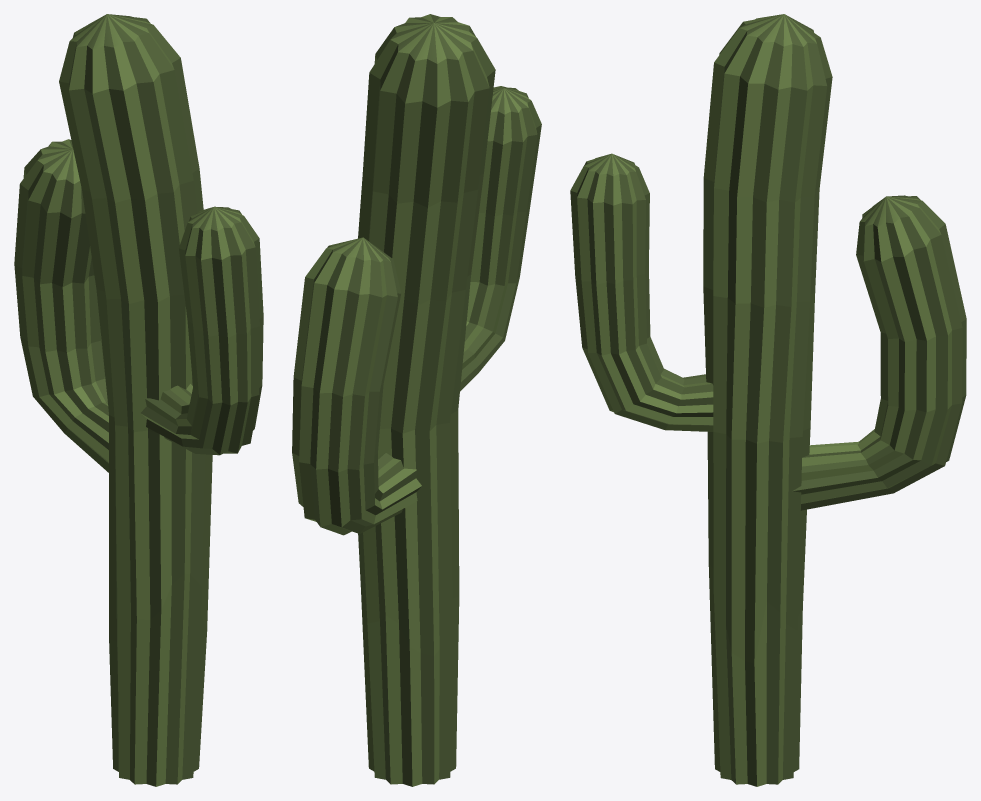
The model's file is Cactus-1.fbx.
3 renders of one model, left to right at view 1: azimuth 30°, elevation 25°; view 2: azimuth 150°, elevation 25°; view 3: azimuth 270°, elevation 25°, orthographic. The views are drawn at different scales.
Parts seen in each view (by area): view 1: SM_Env_Cactus_01; view 2: SM_Env_Cactus_01; view 3: SM_Env_Cactus_01.
Part boxes in pixels (<box>): SM_Env_Cactus_01: <box>14,14,263,786</box>; SM_Env_Cactus_01: <box>292,14,541,786</box>; SM_Env_Cactus_01: <box>570,14,966,786</box>.
Size of the model in its own units: 48.18 by 260 by 126.
